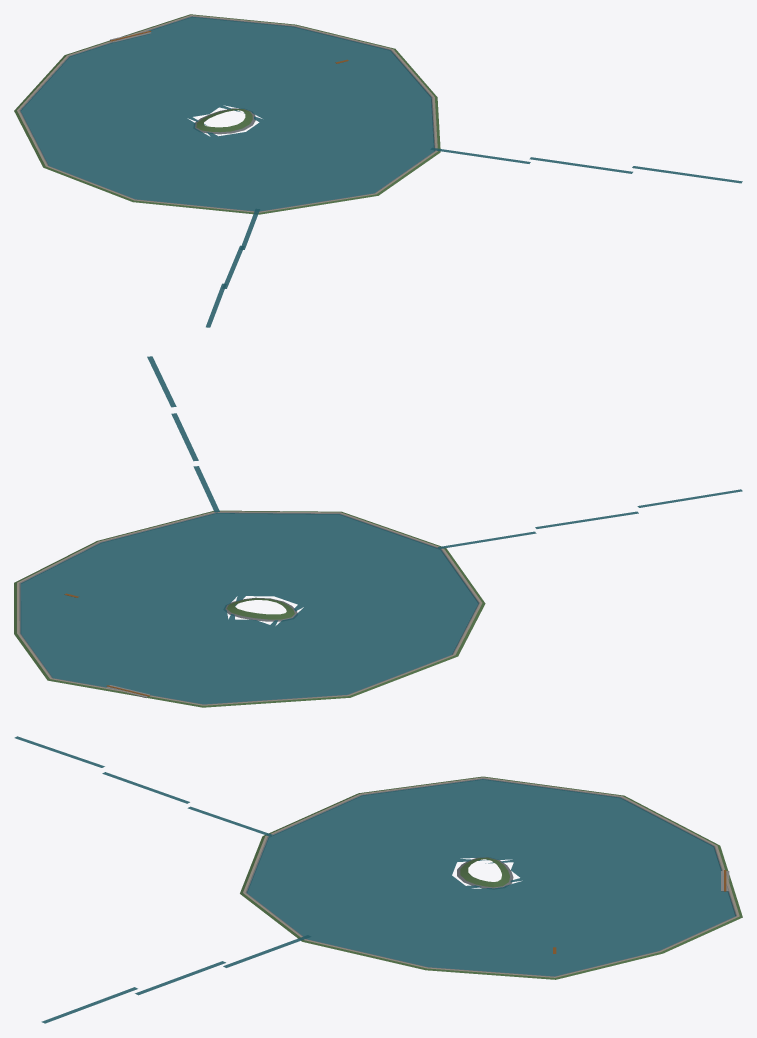
File: water_suoi_da_hoa_vinh_nam_tuyen_lam.glb
3 renders of one model, top to bottom at view 1: azimuth 30°, elevation 25°; view 2: azimuth 150°, elevation 25°; view 3: azimuth 270°, elevation 25°, orthographic. The views are drawn at different scales.
Parts seen in each view (by area): view 1: water_surface_water_suoi_da_hoa_vinh_nam_tuyen_lam, shoreline_terrain_transition_verge_water_suoi_da_hoa_vinh_na, lakeside_promenade_walkway_water_suoi_da_hoa_vinh_nam_tuyen_, embankment_stone_coping_water_suoi_da_hoa_vinh_nam_tuyen_lam, headwater_terraces_stream_suoi_da_hoa_southeast_headwater, headwater_terraces_stream_suoi_da_hoa_southwest_headwater, embankment_stone_slope_water_suoi_da_hoa_vinh_nam_tuyen_lam, island_pine_mound_slope_island_da_hoa_01_nui_voi_pine_sanctu; view 2: water_surface_water_suoi_da_hoa_vinh_nam_tuyen_lam, shoreline_terrain_transition_verge_water_suoi_da_hoa_vinh_na, lakeside_promenade_walkway_water_suoi_da_hoa_vinh_nam_tuyen_, embankment_stone_coping_water_suoi_da_hoa_vinh_nam_tuyen_lam, headwater_terraces_stream_suoi_da_hoa_southeast_headwater, headwater_terraces_stream_suoi_da_hoa_southwest_headwater, embankment_stone_slope_water_suoi_da_hoa_vinh_nam_tuyen_lam, island_pine_mound_slope_island_da_hoa_01_nui_voi_pine_sanctu; view 3: water_surface_water_suoi_da_hoa_vinh_nam_tuyen_lam, shoreline_terrain_transition_verge_water_suoi_da_hoa_vinh_na, lakeside_promenade_walkway_water_suoi_da_hoa_vinh_nam_tuyen_, embankment_stone_coping_water_suoi_da_hoa_vinh_nam_tuyen_lam, headwater_terraces_stream_suoi_da_hoa_southeast_headwater, headwater_terraces_stream_suoi_da_hoa_southwest_headwater, embankment_stone_slope_water_suoi_da_hoa_vinh_nam_tuyen_lam, island_pine_mound_slope_island_da_hoa_01_nui_voi_pine_sanctu.
Part boxes in pixels (left/top/right/bottom): water_surface_water_suoi_da_hoa_vinh_nam_tuyen_lam: left=20, top=16, right=434, bottom=211; shoreline_terrain_transition_verge_water_suoi_da_hoa_vinh_na: left=14, top=14, right=440, bottom=214; lakeside_promenade_walkway_water_suoi_da_hoa_vinh_nam_tuyen_: left=17, top=15, right=437, bottom=212; embankment_stone_coping_water_suoi_da_hoa_vinh_nam_tuyen_lam: left=19, top=16, right=435, bottom=211; headwater_terraces_stream_suoi_da_hoa_southeast_headwater: left=430, top=147, right=742, bottom=183; headwater_terraces_stream_suoi_da_hoa_southwest_headwater: left=206, top=208, right=260, bottom=327; embankment_stone_slope_water_suoi_da_hoa_vinh_nam_tuyen_lam: left=20, top=16, right=434, bottom=165; island_pine_mound_slope_island_da_hoa_01_nui_voi_pine_sanctu: left=196, top=109, right=252, bottom=132; water_surface_water_suoi_da_hoa_vinh_nam_tuyen_lam: left=20, top=513, right=478, bottom=704; shoreline_terrain_transition_verge_water_suoi_da_hoa_vinh_na: left=14, top=510, right=485, bottom=707; lakeside_promenade_walkway_water_suoi_da_hoa_vinh_nam_tuyen_: left=17, top=511, right=482, bottom=705; embankment_stone_coping_water_suoi_da_hoa_vinh_nam_tuyen_lam: left=19, top=512, right=479, bottom=704; headwater_terraces_stream_suoi_da_hoa_southeast_headwater: left=147, top=356, right=219, bottom=512; headwater_terraces_stream_suoi_da_hoa_southwest_headwater: left=437, top=489, right=742, bottom=548; embankment_stone_slope_water_suoi_da_hoa_vinh_nam_tuyen_lam: left=20, top=512, right=478, bottom=674; island_pine_mound_slope_island_da_hoa_01_nui_voi_pine_sanctu: left=226, top=598, right=294, bottom=619; water_surface_water_suoi_da_hoa_vinh_nam_tuyen_lam: left=247, top=779, right=735, bottom=976; shoreline_terrain_transition_verge_water_suoi_da_hoa_vinh_na: left=240, top=776, right=742, bottom=979; lakeside_promenade_walkway_water_suoi_da_hoa_vinh_nam_tuyen_: left=243, top=777, right=739, bottom=977; embankment_stone_coping_water_suoi_da_hoa_vinh_nam_tuyen_lam: left=245, top=778, right=736, bottom=976; headwater_terraces_stream_suoi_da_hoa_southeast_headwater: left=41, top=935, right=311, bottom=1023; headwater_terraces_stream_suoi_da_hoa_southwest_headwater: left=14, top=736, right=272, bottom=836; embankment_stone_slope_water_suoi_da_hoa_vinh_nam_tuyen_lam: left=246, top=778, right=735, bottom=915; island_pine_mound_slope_island_da_hoa_01_nui_voi_pine_sanctu: left=460, top=857, right=509, bottom=887.
Bounding box in the file's own units: 1248 × 29.45 × 1326.
